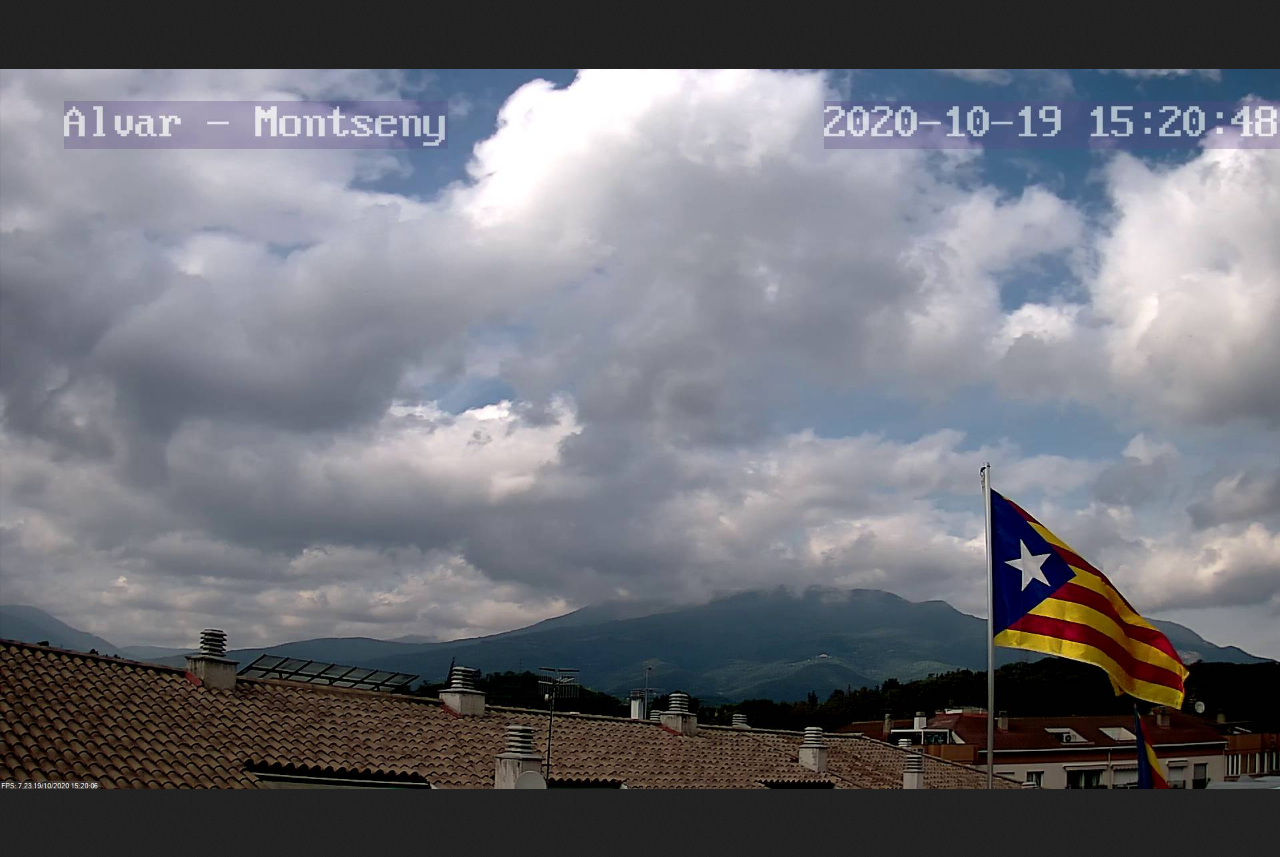maybe: (985, 479, 1192, 711)
